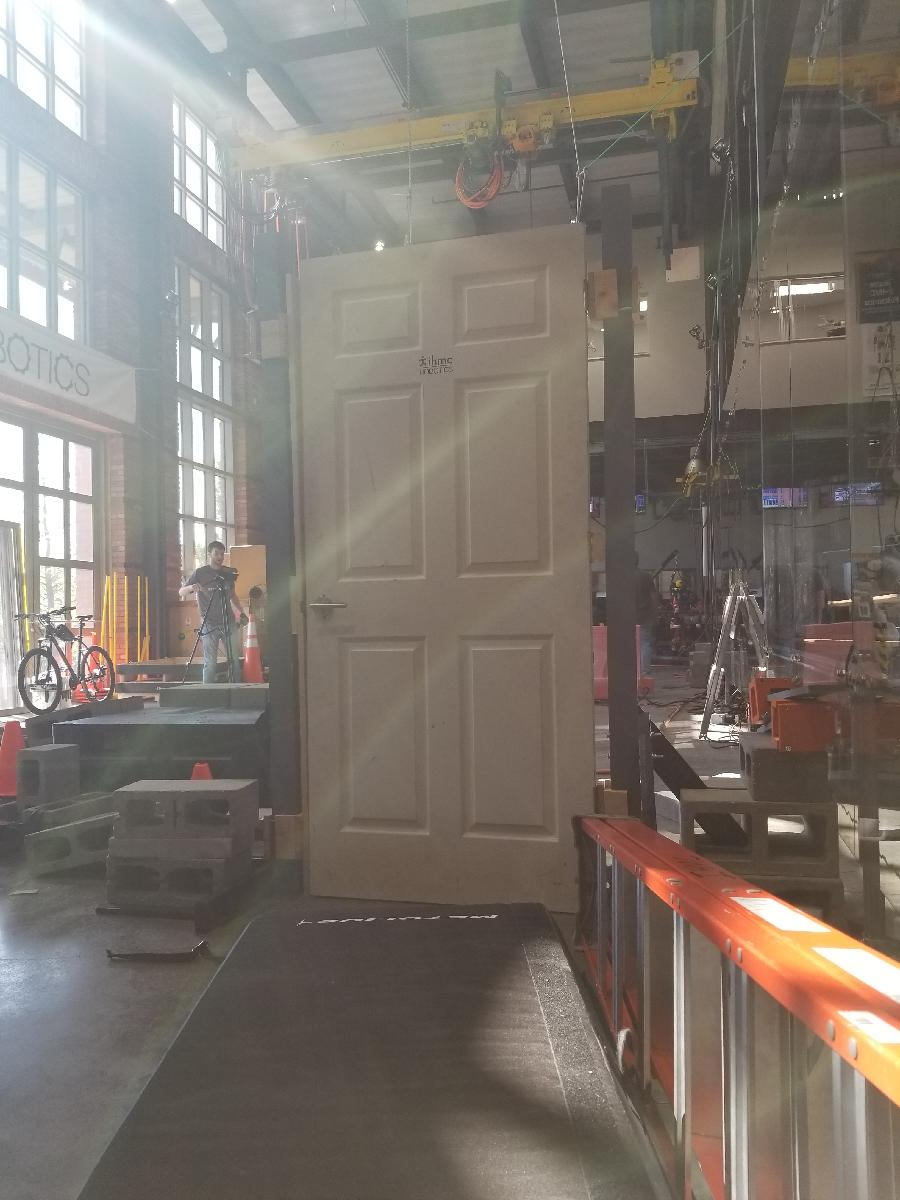door: (287, 220, 609, 925)
doorHandle: (308, 592, 352, 620)
